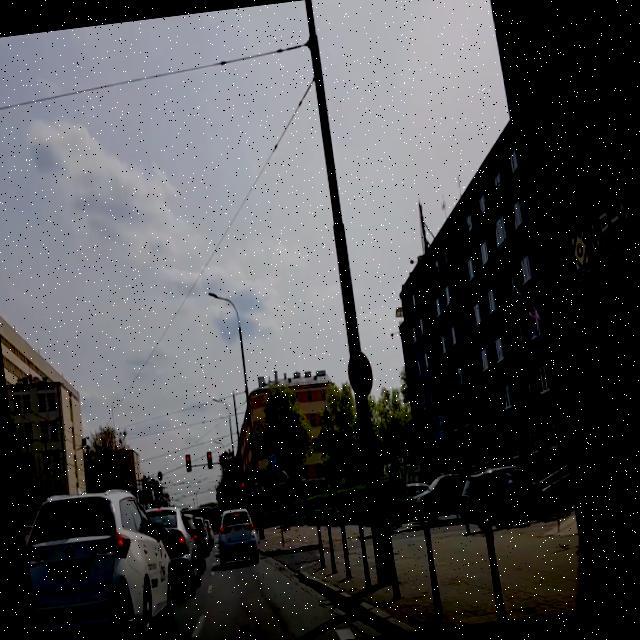Zakaz zatrzymywania sie: (344, 347, 375, 398)
